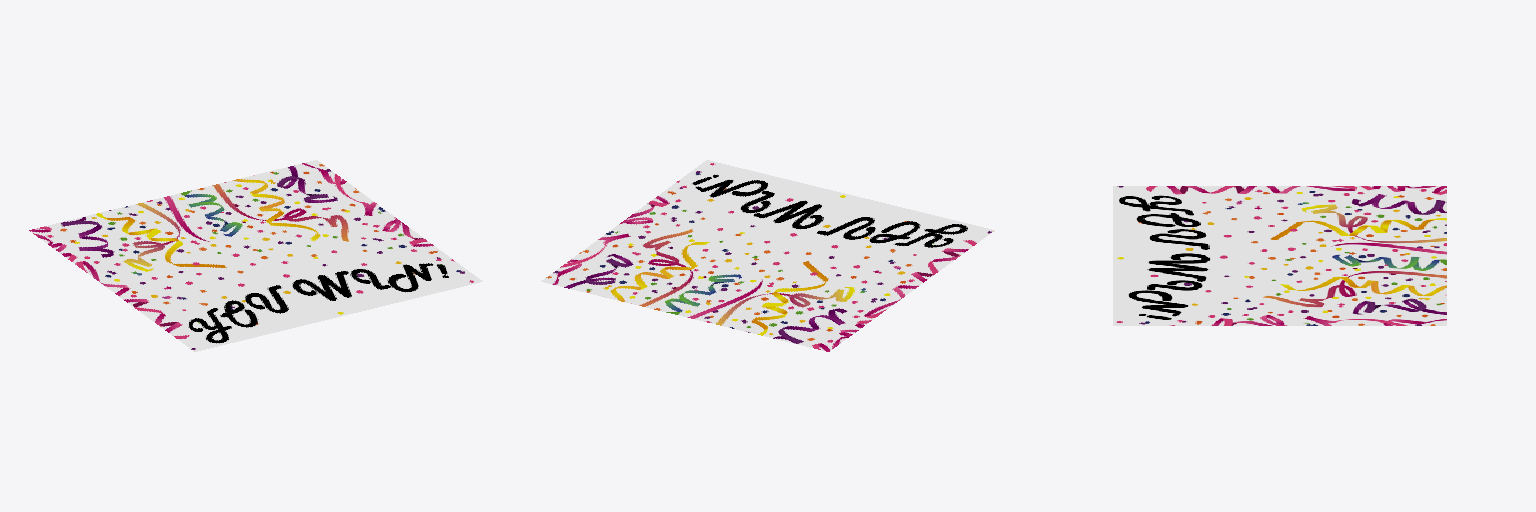
The picture shows the model from 3 angles: view 1: azimuth 30°, elevation 25°; view 2: azimuth 150°, elevation 25°; view 3: azimuth 270°, elevation 25°; orthographic projection.
Visible parts, largest first — view 1: pPlane1; view 2: pPlane1; view 3: pPlane1.
Boxes of the visible parts, box(x1,y1,x2,y2) form: pPlane1: box(29, 160, 482, 351); pPlane1: box(541, 160, 994, 351); pPlane1: box(1113, 186, 1446, 325).
Bounding box in the file's own units: 7.96 × 0 × 7.96.
1 materials, 1 textured.